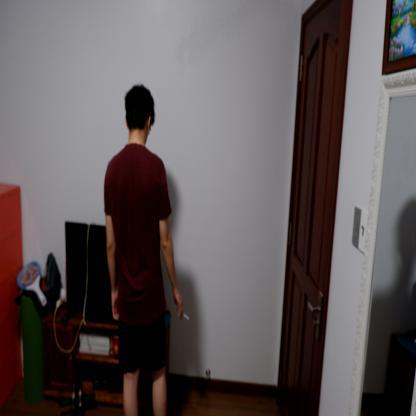cigarette: (182, 312, 190, 322)
person: (102, 83, 177, 415)
